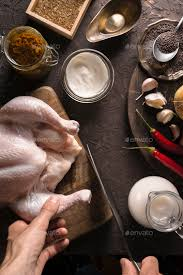Chicken: (1, 98, 89, 197)
